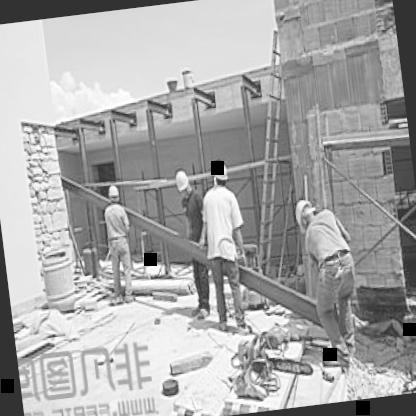helmet: (291, 194, 320, 232), (210, 158, 230, 188), (174, 168, 193, 198), (106, 180, 120, 205)
